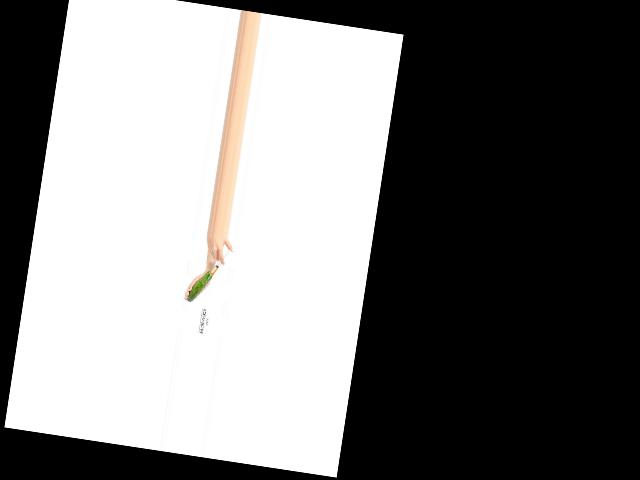cucumber: (186, 268, 213, 304)
